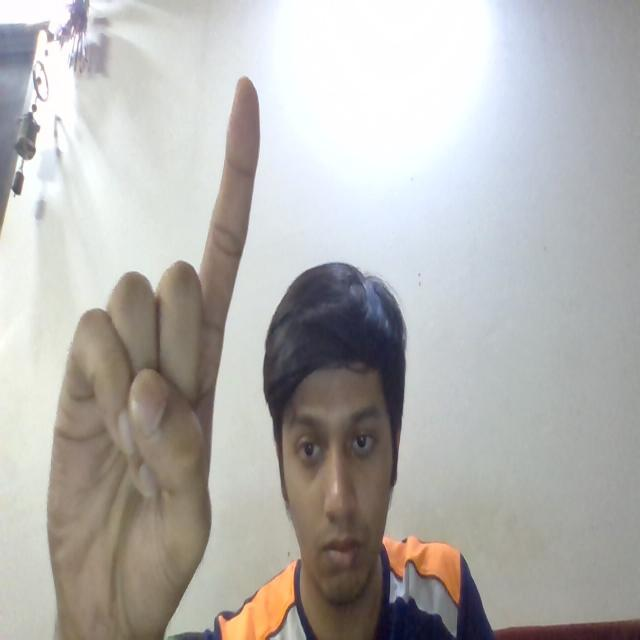Z: (30, 48, 272, 640)
